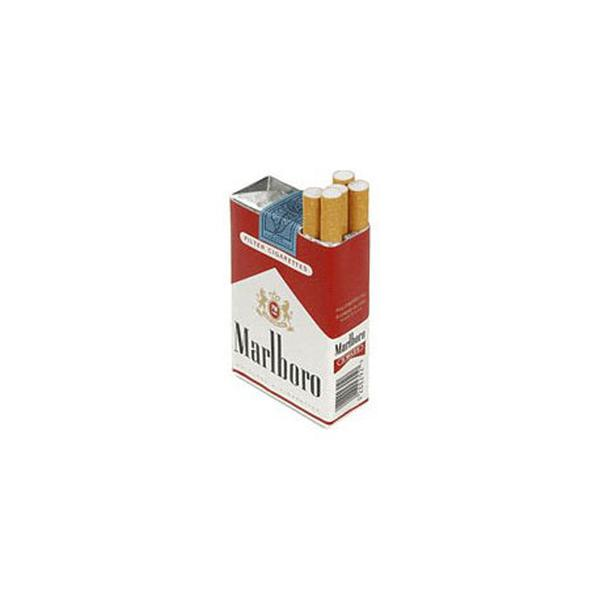marlboro_red: (231, 232, 332, 399)
